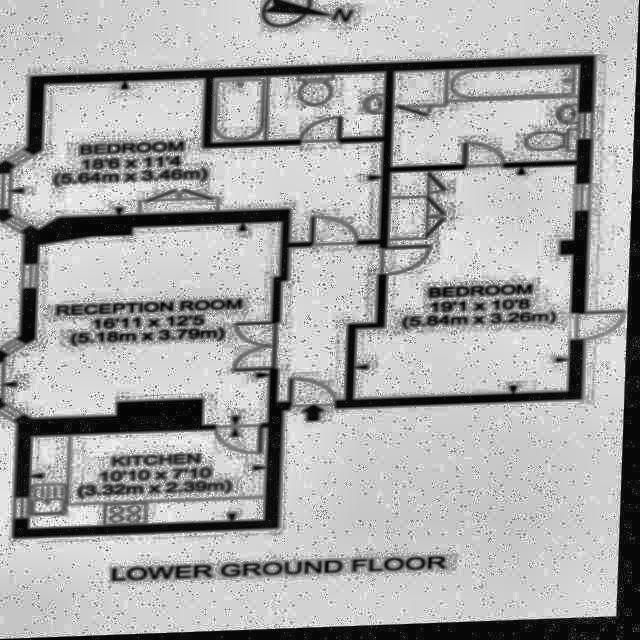room: (12, 74, 388, 248), (6, 213, 285, 430), (357, 166, 577, 407), (29, 430, 274, 529), (389, 69, 583, 170), (280, 244, 382, 407), (209, 74, 389, 144)
